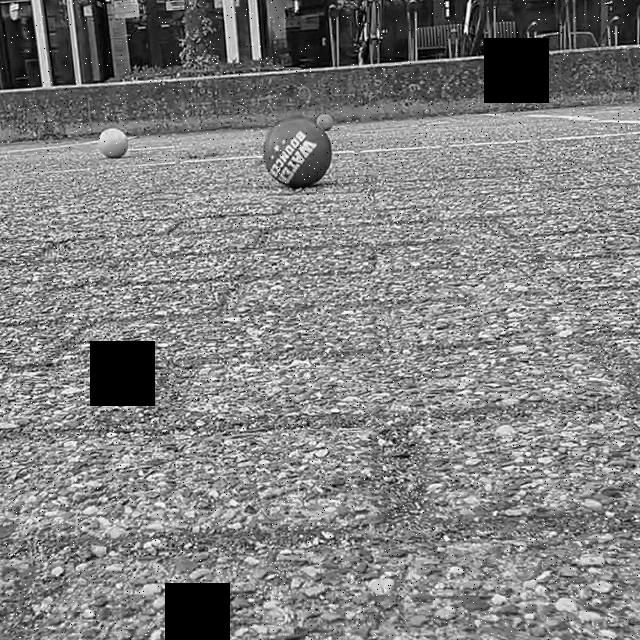ball: (95, 123, 131, 168), (310, 109, 340, 135)
